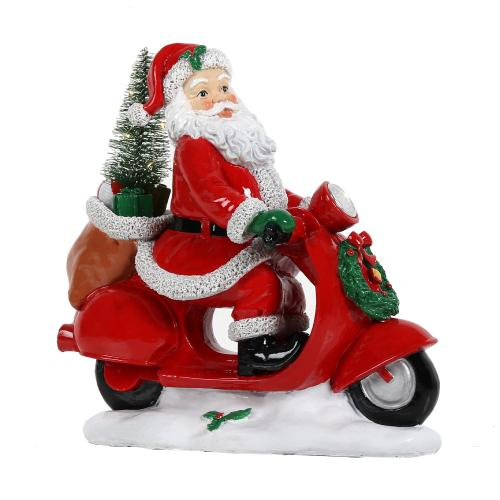Santa: (126, 42, 343, 382)
